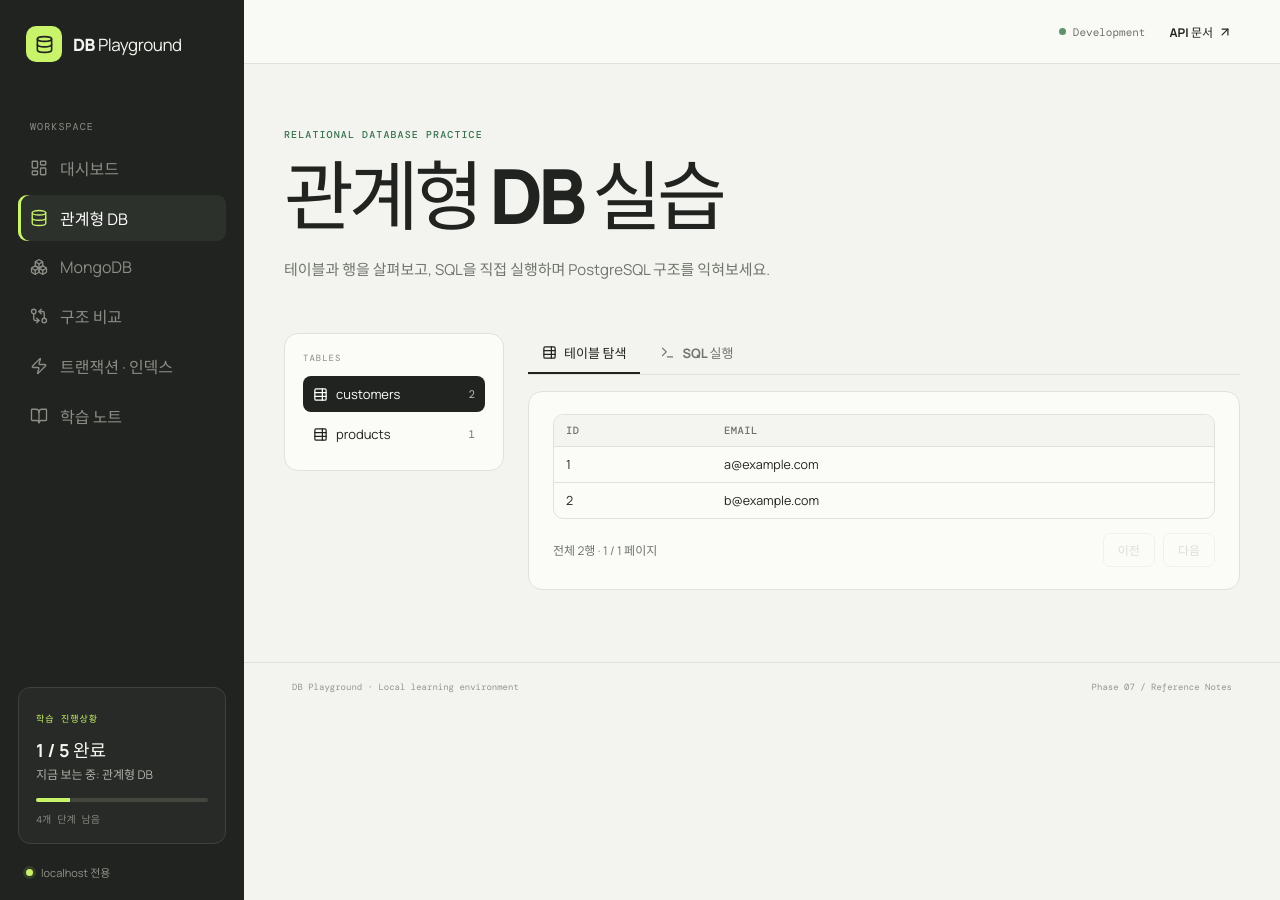
Scenario: RelationalPage › runs a query from the SQL console and shows results
The image size is (1280, 900).
Check: the text "customers" is shown, box [336,386,400,404]
Click the tab "SQL 실행" at (697, 354), box [646,334,748,374]
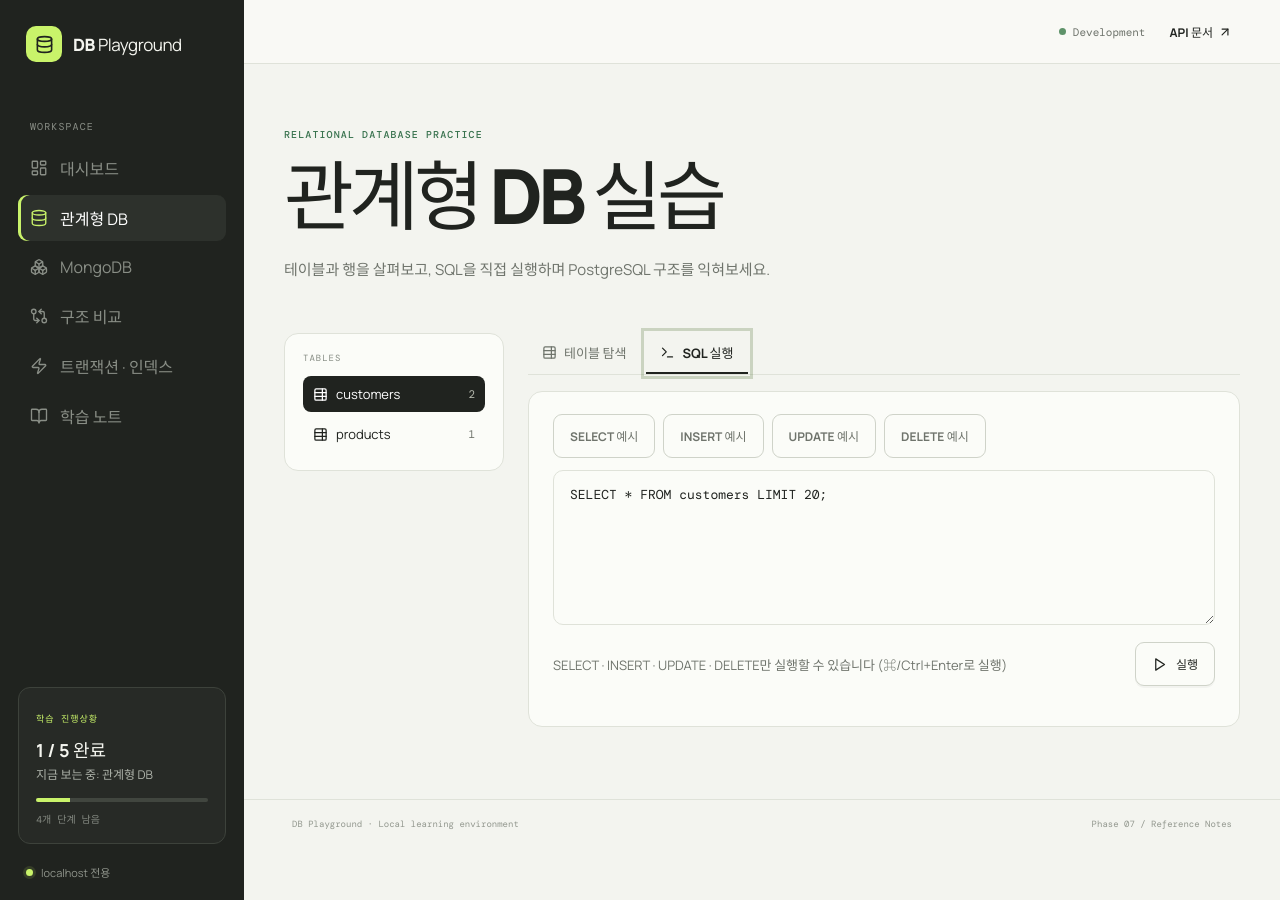
Click the button "실행" at (1175, 664), box [1135,642,1215,686]
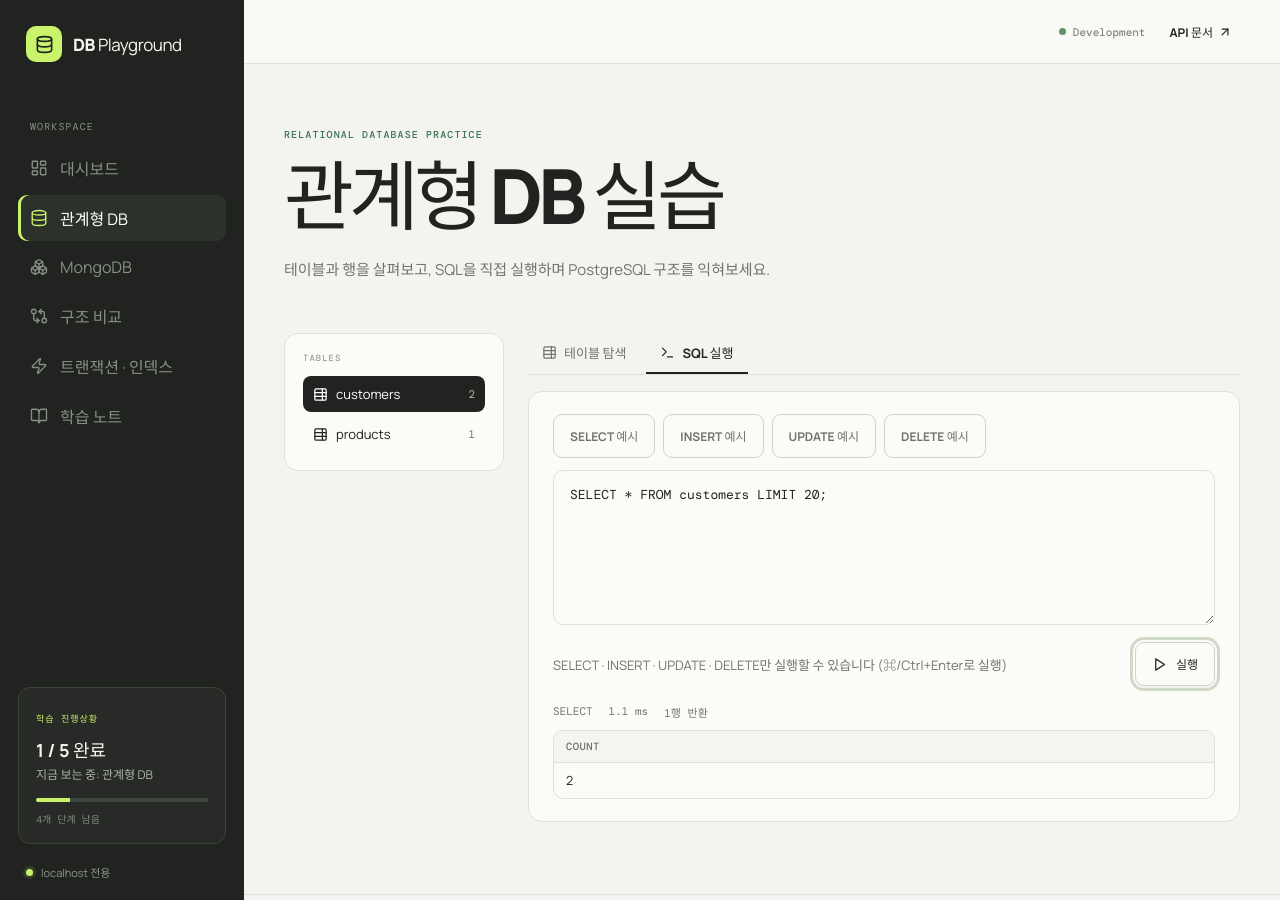
Check: the text "SELECT" is shown, box [553,704,593,720]
Check: the text "1행 반환" is shown, box [664,704,708,720]
